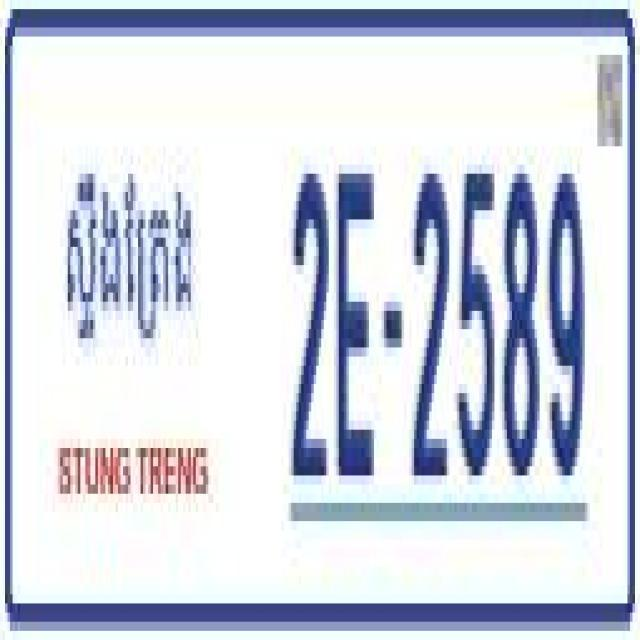Stung_Treng: (60, 156, 193, 364)
